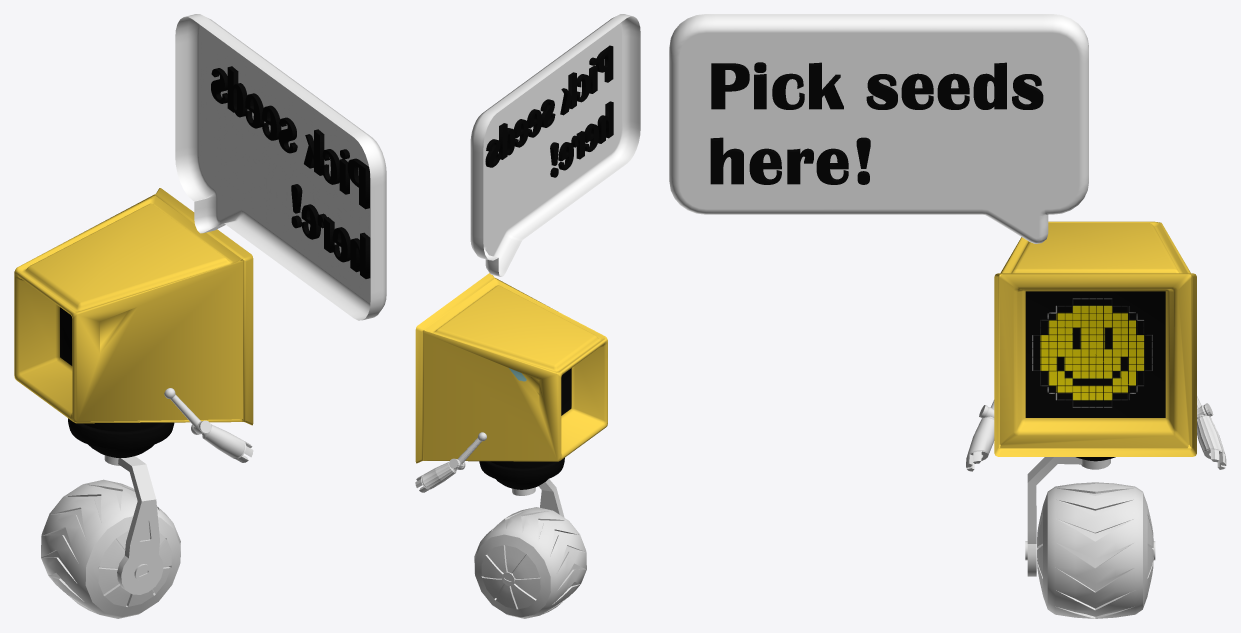
File: BOT.fbx
3 renders of one model, left to right at view 1: azimuth 30°, elevation 25°; view 2: azimuth 150°, elevation 25°; view 3: azimuth 270°, elevation 25°, orthographic. The views are drawn at different scales.
Visible parts, largest first — view 1: Cube.001, Cube.005, Cube.007, Text, Cube.006, Cube.008, Cube.004, Cube.003; view 2: Cube.001, Cube.005, Cube.007, Text, Cube.008, Cube.006, Cube.004, Cube.003; view 3: Cube.005, Cube.001, Cube.002, Cube.007, Text, Cube.006, Cube.008.
Part boxes in pixels (x1,y1,x2,y2): Cube.001: (14, 188, 253, 425); Cube.005: (175, 14, 386, 320); Cube.007: (41, 479, 180, 618); Text: (211, 66, 370, 278); Cube.006: (104, 388, 253, 594); Cube.008: (98, 530, 171, 606); Cube.004: (68, 418, 174, 449); Cube.003: (83, 422, 160, 457); Cube.001: (415, 273, 607, 463); Cube.005: (470, 14, 640, 276); Cube.007: (474, 507, 586, 618); Text: (485, 45, 613, 177); Cube.008: (481, 545, 540, 609); Cube.006: (415, 432, 564, 586); Cube.004: (479, 458, 564, 482); Cube.003: (490, 461, 552, 489); Cube.005: (669, 14, 1088, 243); Cube.001: (994, 221, 1196, 456); Cube.002: (1025, 291, 1165, 417); Cube.007: (1043, 482, 1147, 618); Text: (710, 62, 1043, 184); Cube.006: (966, 396, 1226, 576); Cube.008: (1037, 506, 1153, 594).
Bounding box in the file's own units: 210 × 725 × 580.
9 materials, 4 textured.
